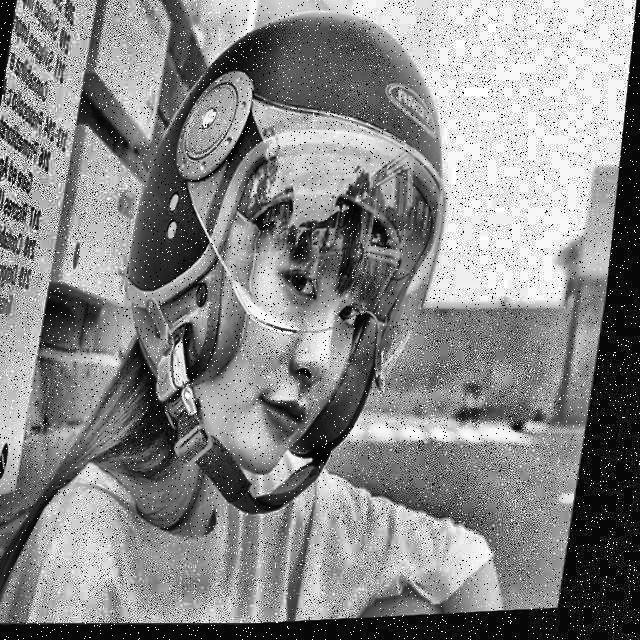Helmet: (92, 0, 488, 543)
